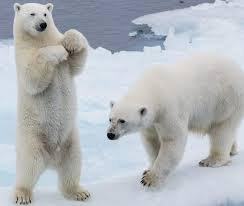bear: (103, 57, 244, 192), (7, 0, 94, 206)
